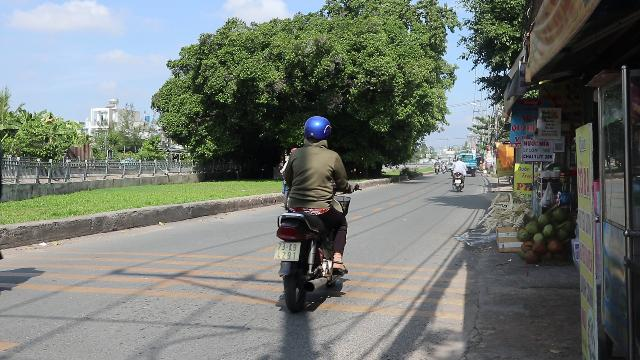helmet: (302, 115, 332, 146)
licenseplate: (274, 243, 300, 261)
motorcyclist: (270, 114, 354, 314)
